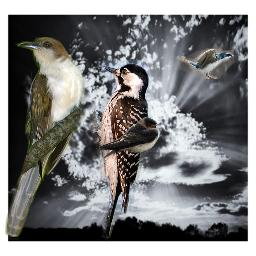Cuckoo: (5, 37, 86, 237)
Swallow: (99, 117, 160, 159), (176, 48, 234, 79)
Woodpecker: (92, 59, 152, 243)
